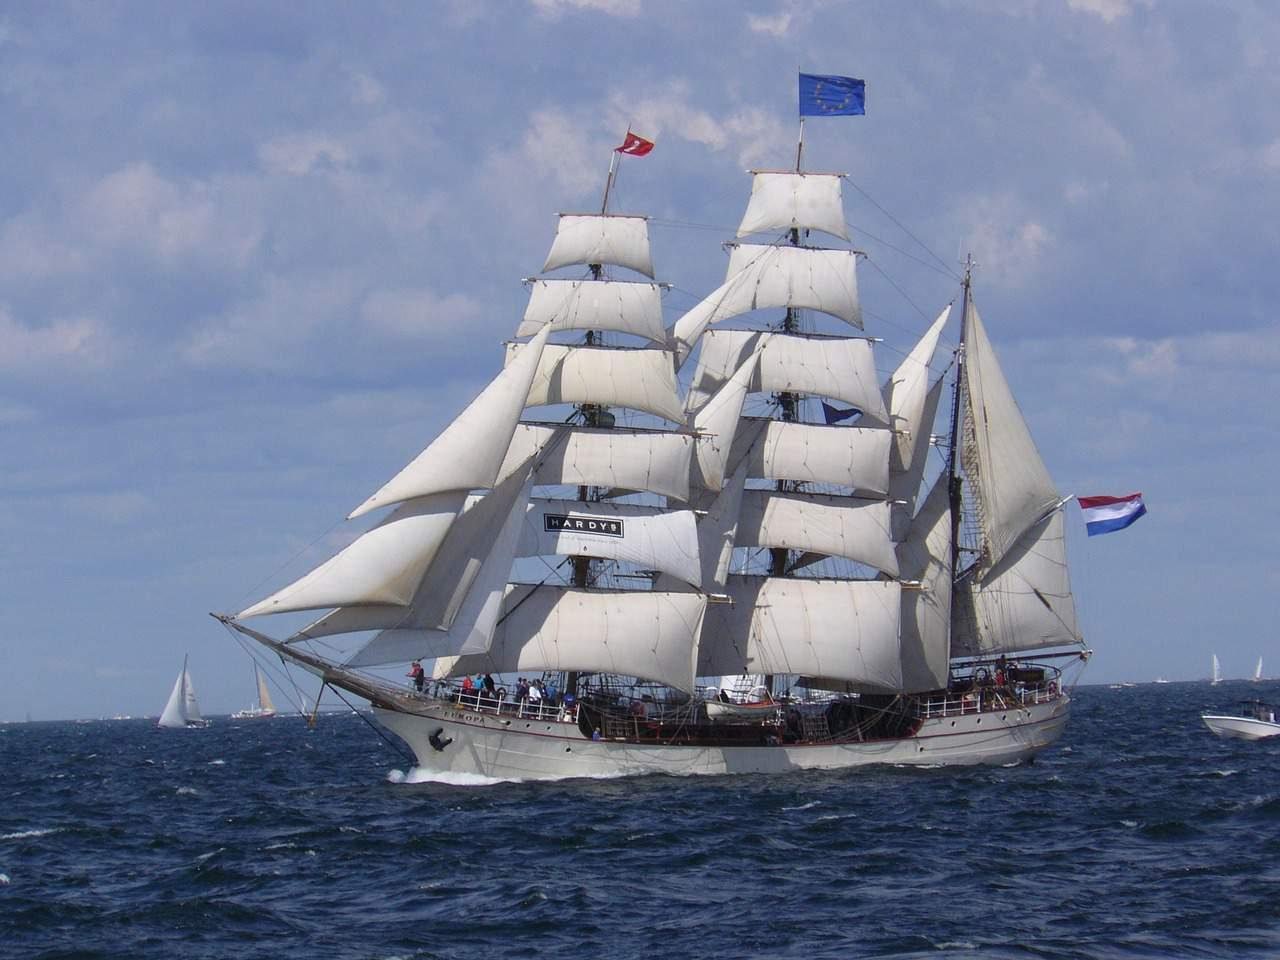Ship: (205, 76, 1149, 785)
